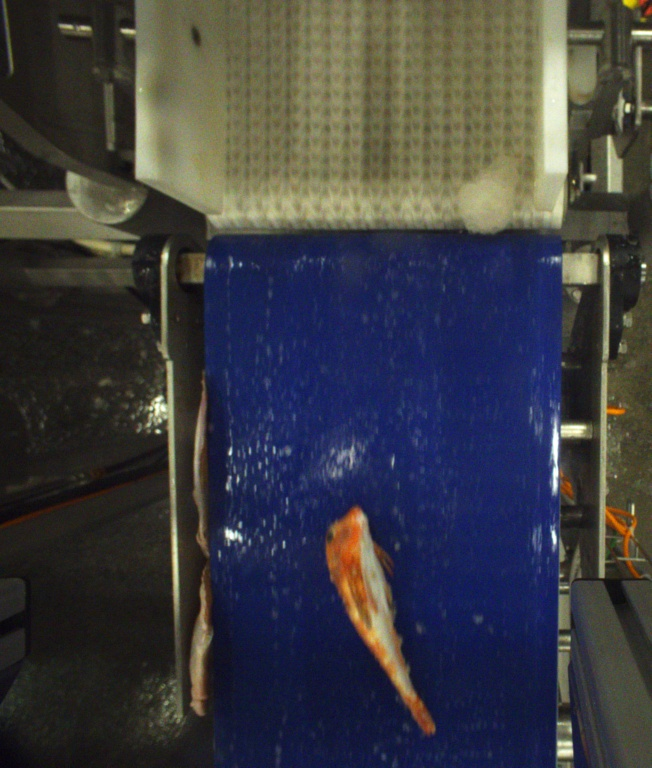GUU: (325, 505, 437, 734)
